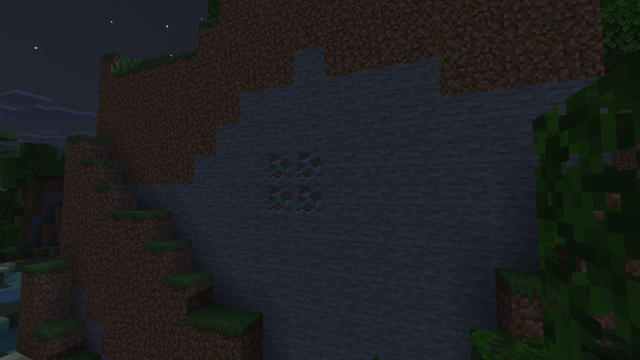copper: (264, 150, 328, 216)
